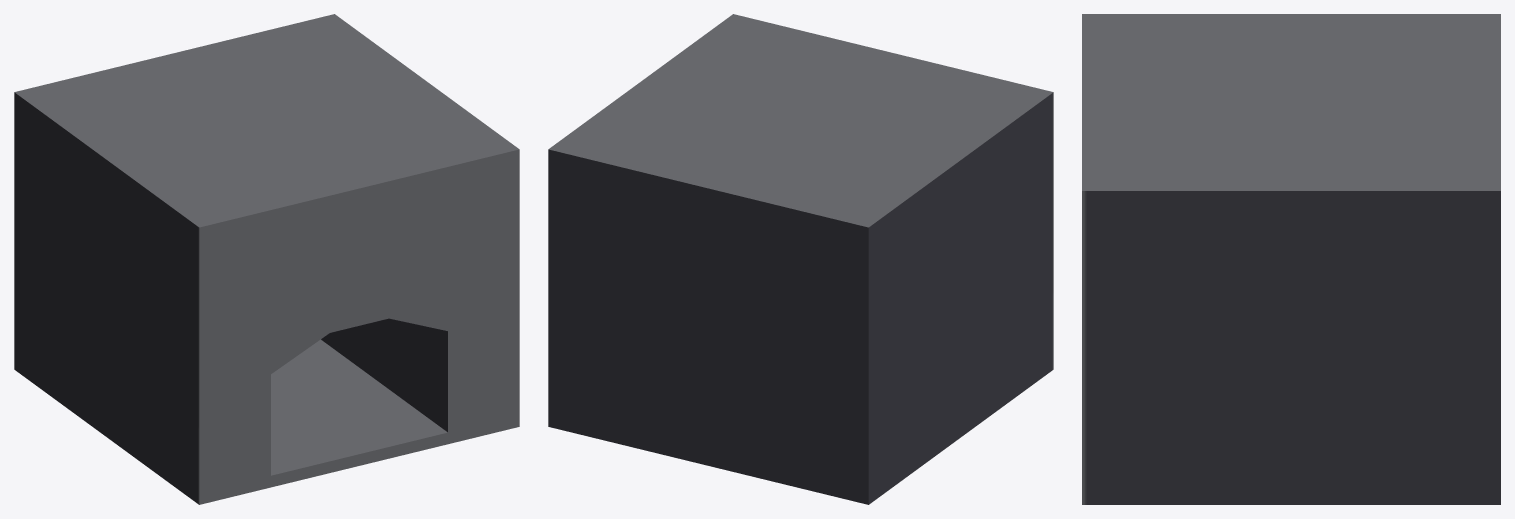
File: Furnace_Box_Unwrapped.FBX
3 renders of one model, left to right at view 1: azimuth 30°, elevation 25°; view 2: azimuth 150°, elevation 25°; view 3: azimuth 270°, elevation 25°, orthographic. The views are drawn at different scales.
Visible parts, largest first — view 1: Furnace_Box_1; view 2: Furnace_Box_1; view 3: Furnace_Box_1.
Part boxes in pixels (box(x1,y1,x2,y2)): Furnace_Box_1: box(14, 14, 519, 504); Furnace_Box_1: box(548, 14, 1053, 504); Furnace_Box_1: box(1082, 14, 1500, 504).
Bounding box in the file's own units: 1 × 0.8274 × 1.
